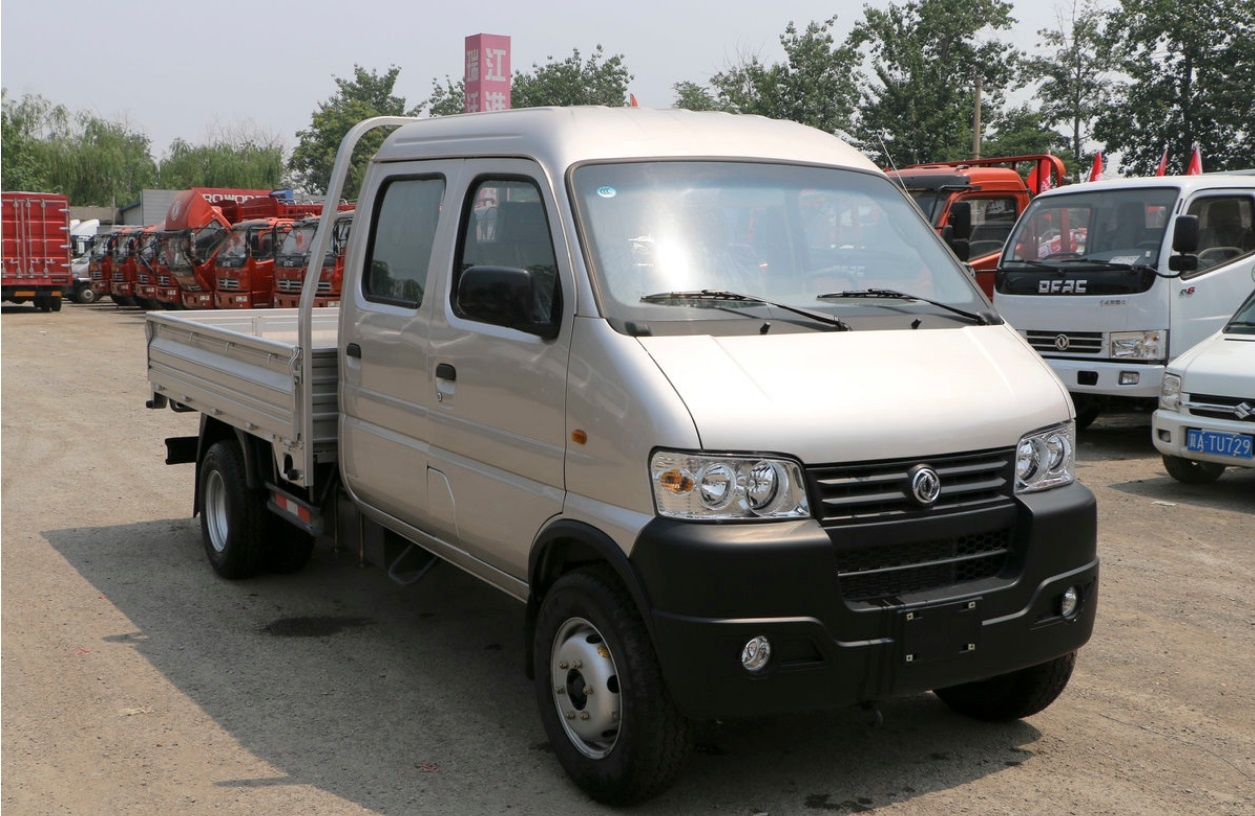truck: (132, 101, 1084, 780)
